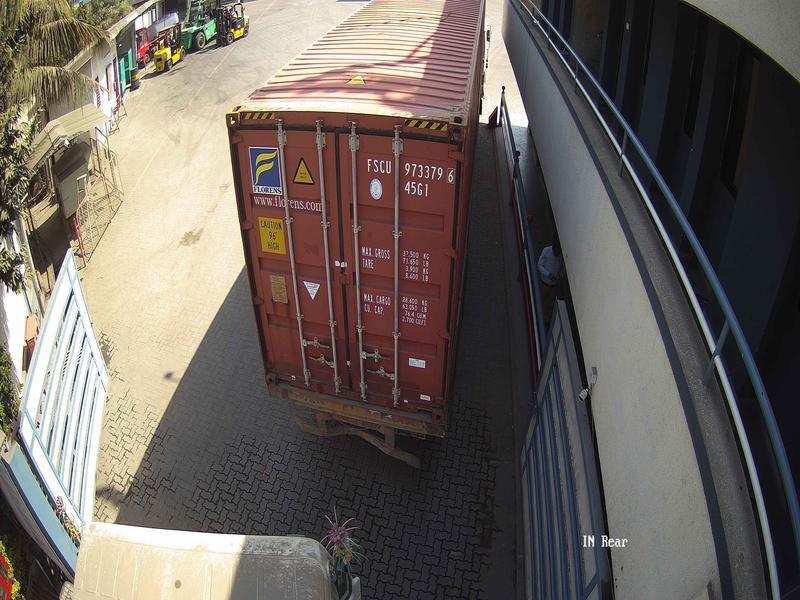container: (218, 100, 484, 441)
